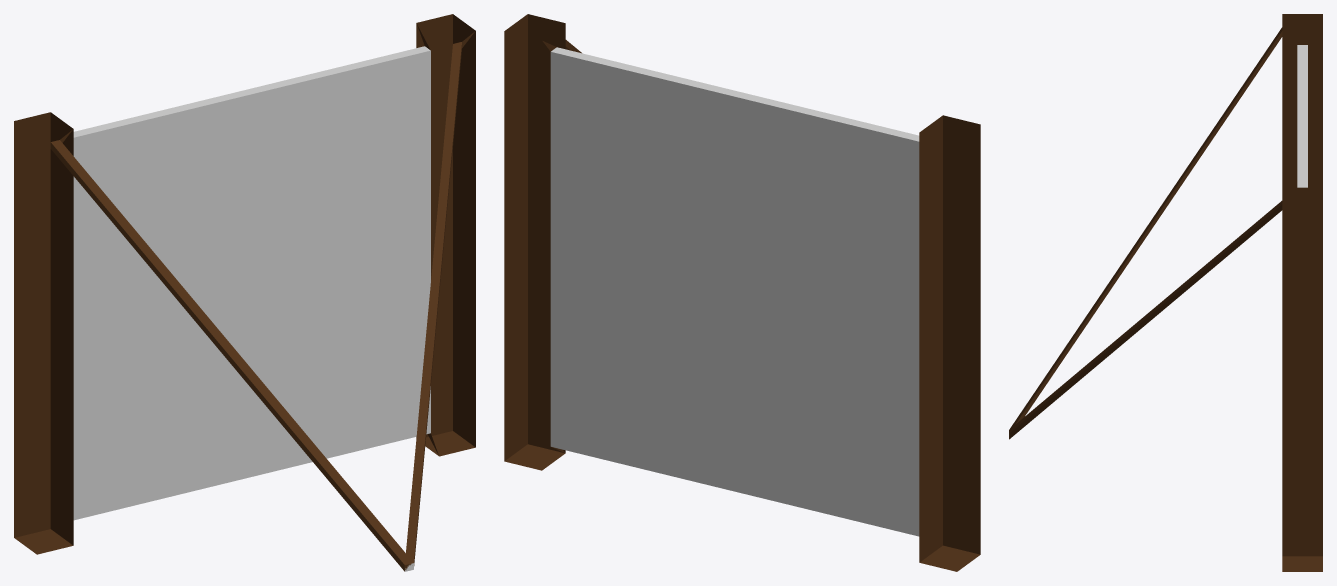
File: Temple_Wall.fbx
The picture shows the model from 3 angles, left to right: view 1: azimuth 30°, elevation 25°; view 2: azimuth 150°, elevation 25°; view 3: azimuth 270°, elevation 25°; orthographic projection. The views are drawn at different scales.
Parts seen in each view (by area): view 1: Cube; view 2: Cube; view 3: Cube.
Part boxes in pixels (left/top/right/bottom): Cube: left=14, top=14, right=475, bottom=571; Cube: left=504, top=14, right=980, bottom=571; Cube: left=1009, top=14, right=1322, bottom=571.
Bounding box in the file's own units: 304 × 276 × 213.
